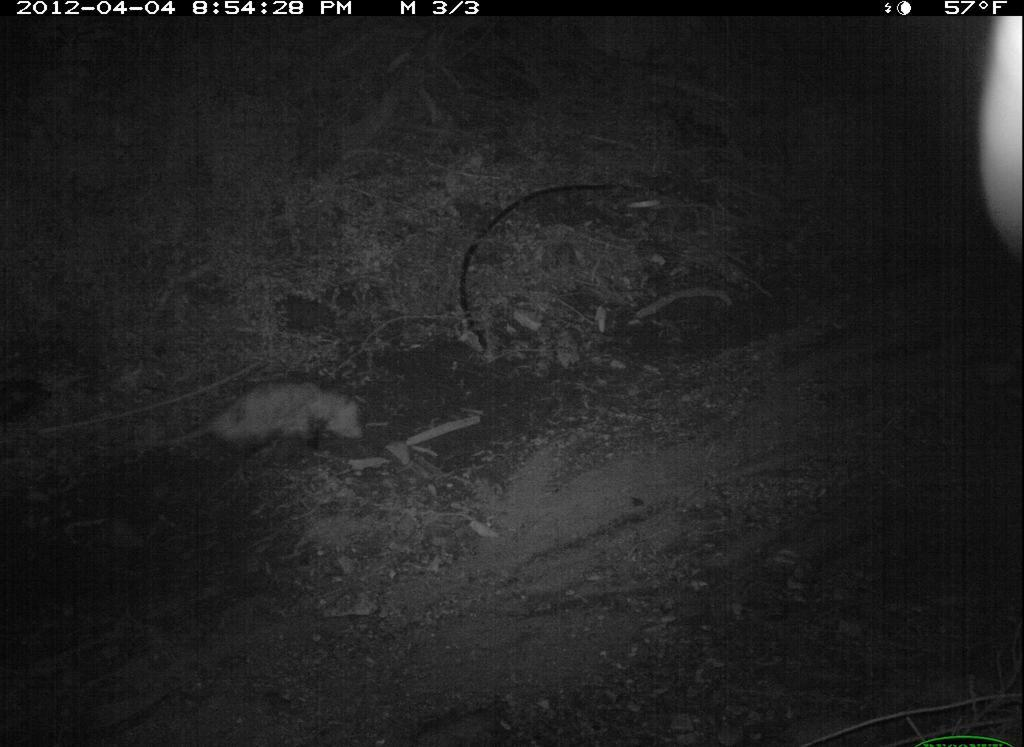opossum: (137, 374, 381, 472)
